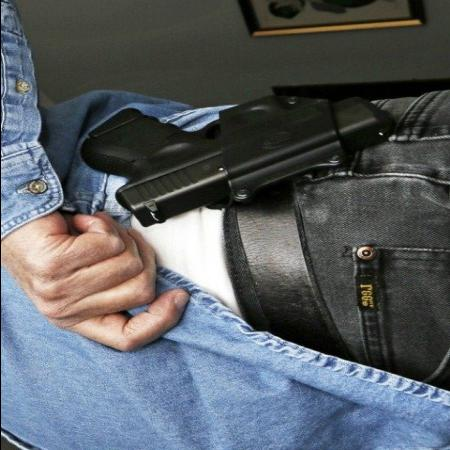Pistol: (75, 78, 401, 232)
